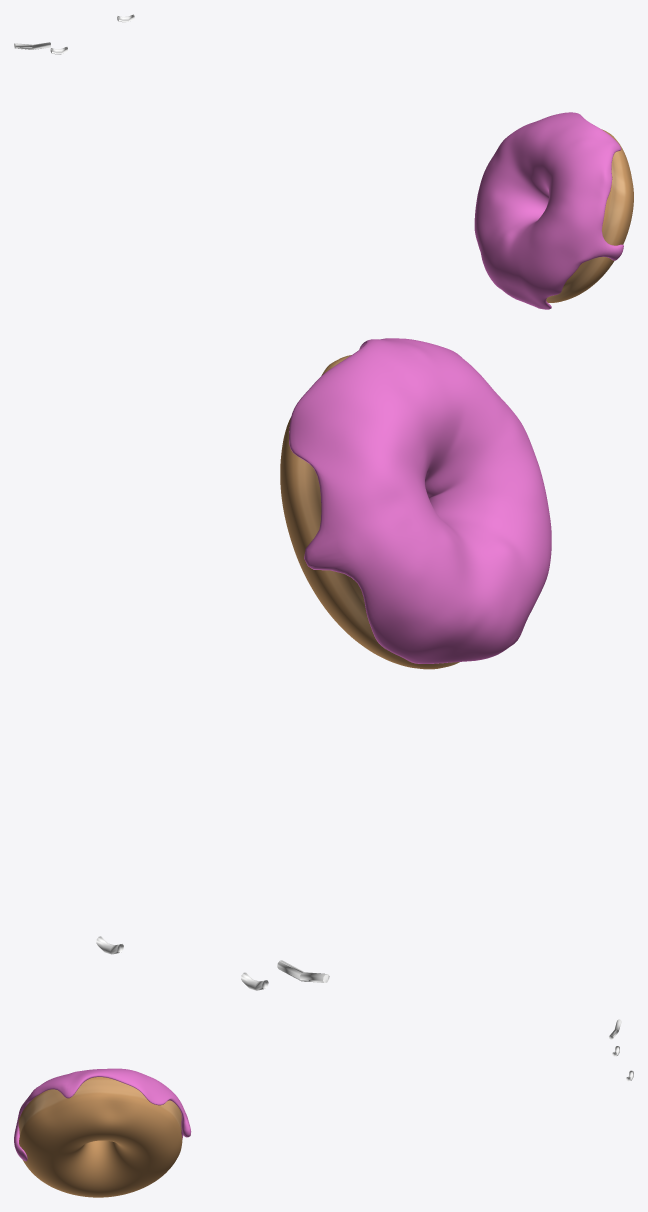
Rendered from Donut.gltf.
3 views of the same model, one above another, from view 1: azimuth 30°, elevation 25°; view 2: azimuth 150°, elevation 25°; view 3: azimuth 270°, elevation 25° (orthographic). The views are drawn at different scales.
Parts seen in each view (by area): view 1: Icing, Donut; view 2: Icing, Donut; view 3: Donut, Icing.
Part boxes in pixels (box(x1,y1,x2,y2)): Icing: box(474, 112, 623, 309); Donut: box(546, 129, 633, 302); Icing: box(289, 338, 551, 663); Donut: box(280, 355, 459, 669); Donut: box(18, 1077, 182, 1197); Icing: box(14, 1068, 191, 1161).
Size of the model in its own units: 6.34 by 3.24 by 12.71.
3 materials, 1 textured.
